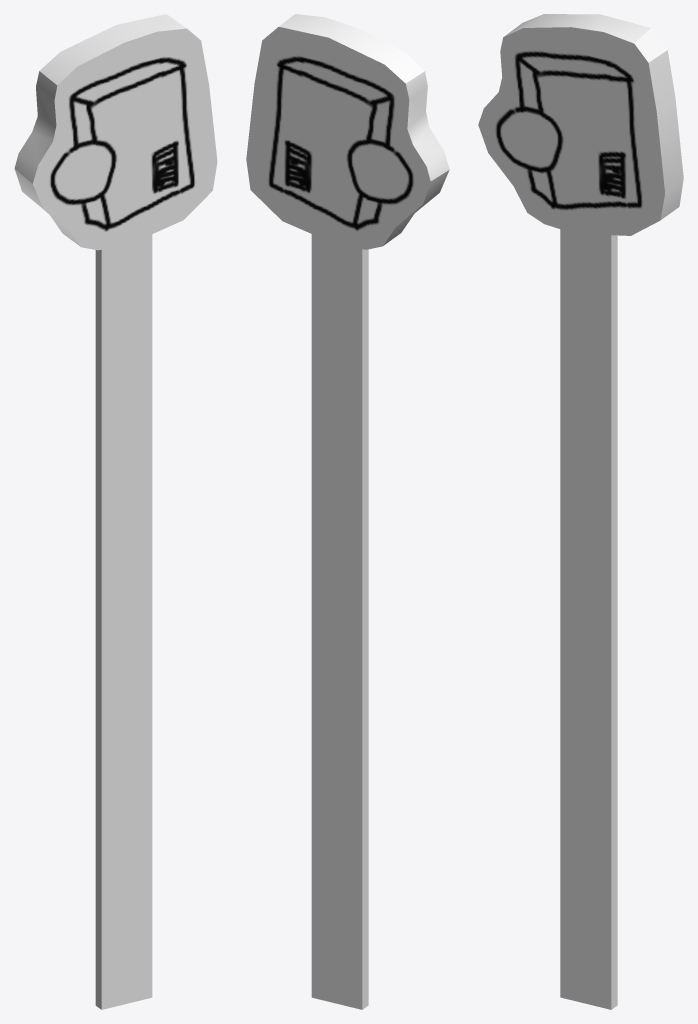
File: Cashier_Box.fbx
The picture shows the model from 3 angles, left to right: view 1: azimuth 30°, elevation 25°; view 2: azimuth 150°, elevation 25°; view 3: azimuth 330°, elevation 25°; orthographic projection.
Visible parts, largest first — view 1: Hand_box; view 2: Hand_box; view 3: Hand_box.
Boxes of the visible parts, x1=… form: Hand_box: x1=14, y1=14, x2=217, y2=1009; Hand_box: x1=246, y1=14, x2=449, y2=1009; Hand_box: x1=478, y1=14, x2=683, y2=1009.
Size of the model in its own units: 64.41 by 323 by 11.23.
